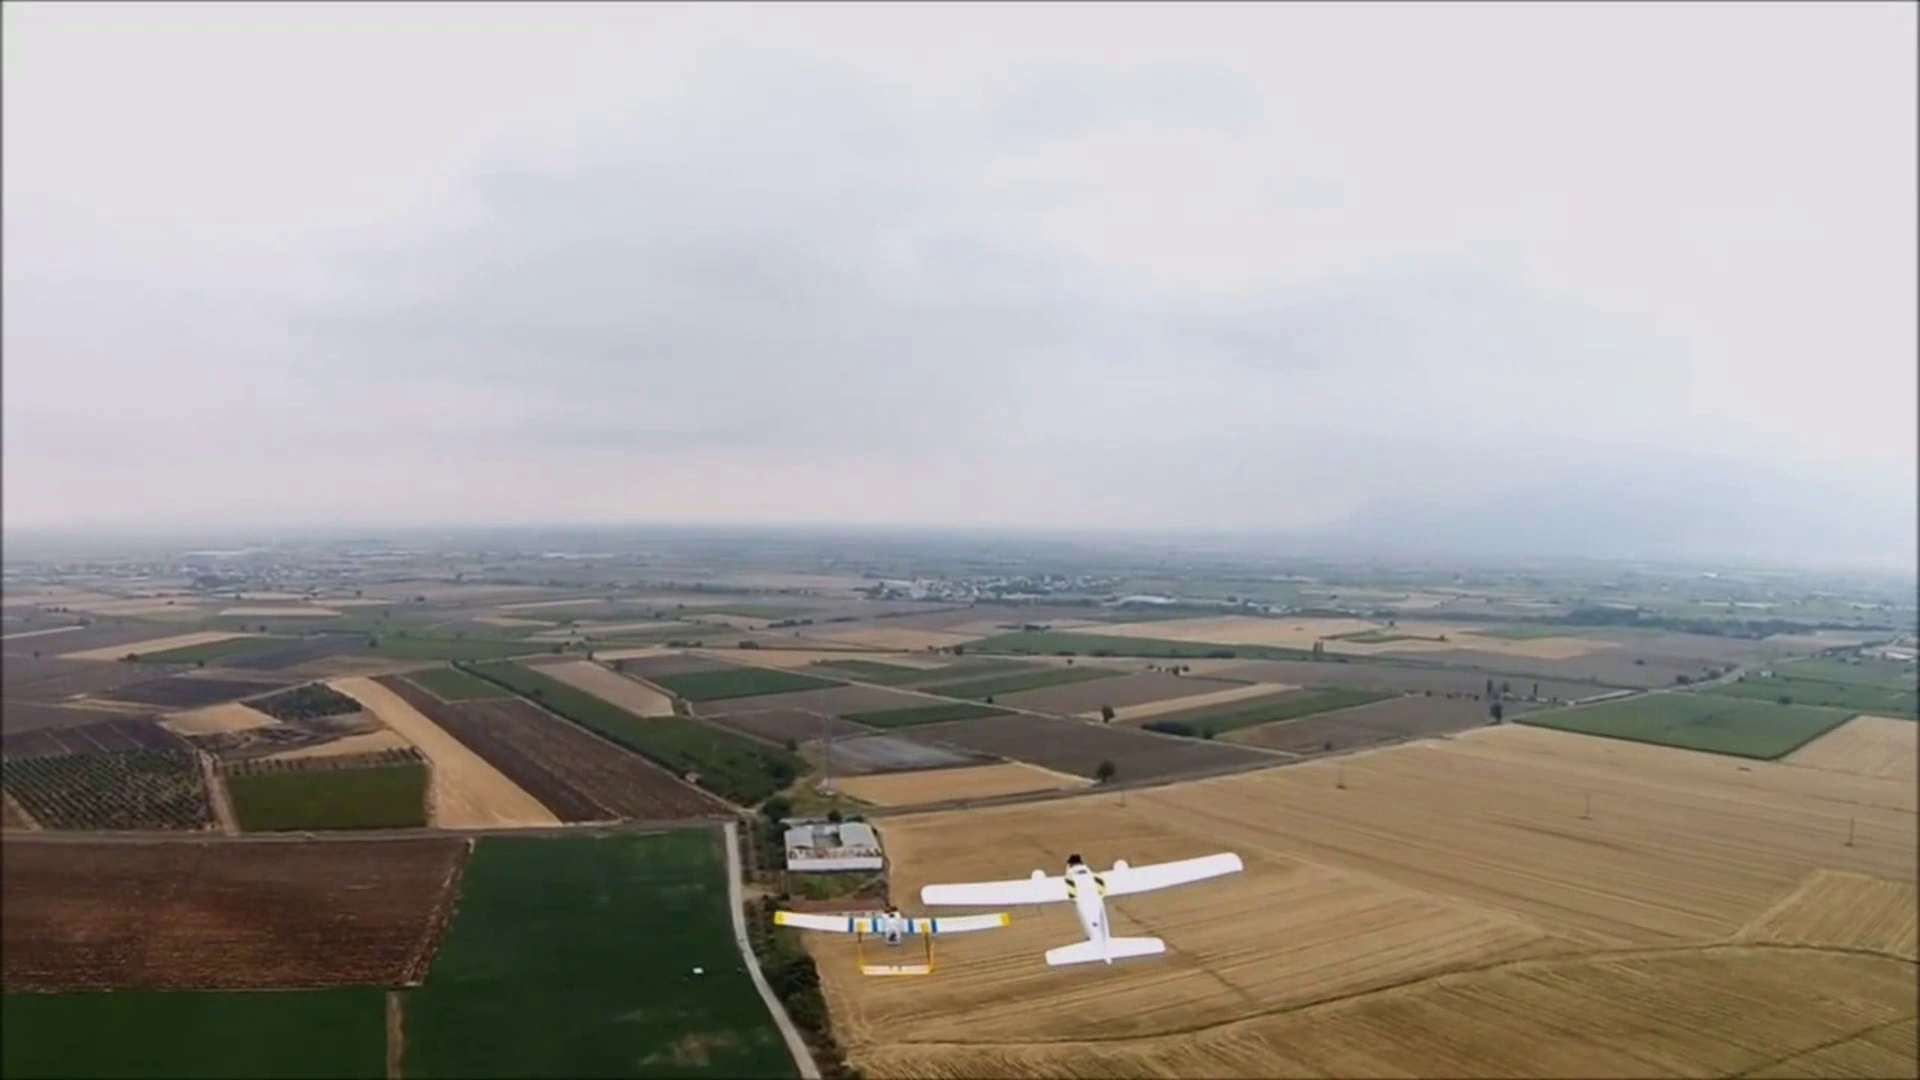airplane: (915, 848, 1245, 951)
